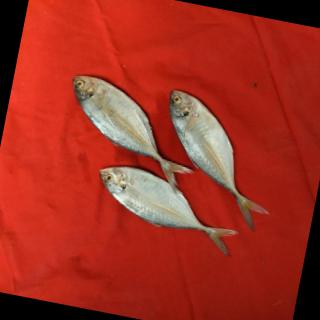Ikan: (40, 62, 295, 272)
